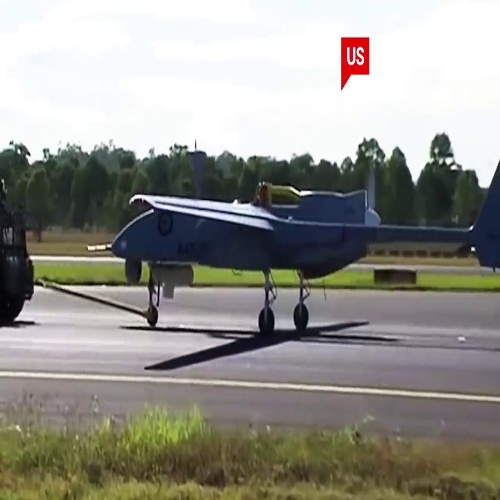uav: (97, 180, 500, 335)
